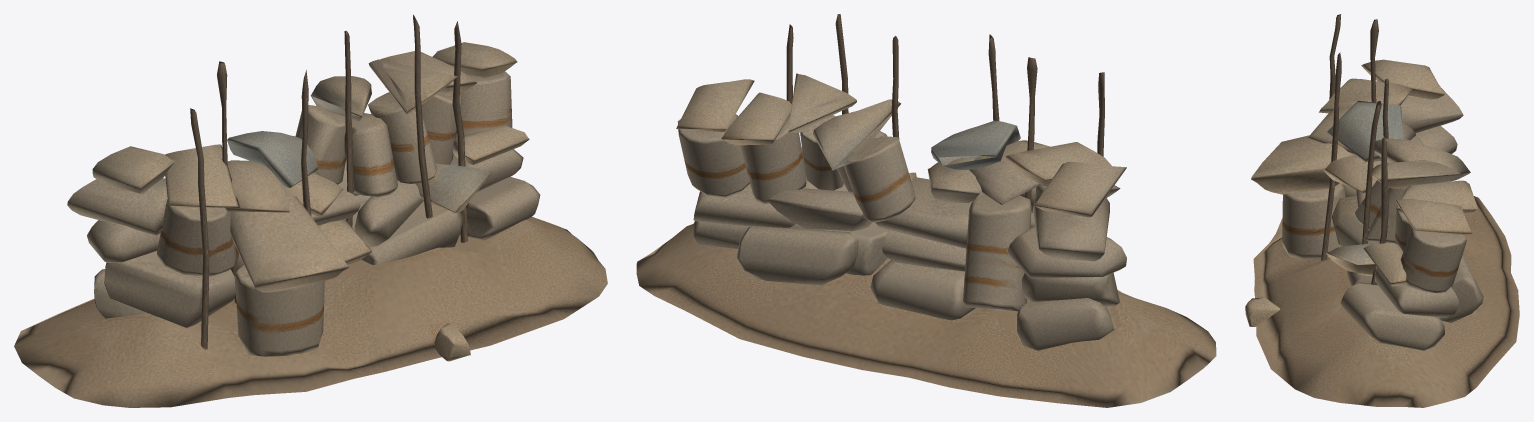
Rendered from su_bendi.glb.
3 renders of one model, left to right at view 1: azimuth 30°, elevation 25°; view 2: azimuth 150°, elevation 25°; view 3: azimuth 270°, elevation 25°, orthographic. The views are drawn at different scales.
Bounding box in the file's own units: 0.9634 × 0.4746 × 0.5.
Materials: 1 (1 with a texture image).
